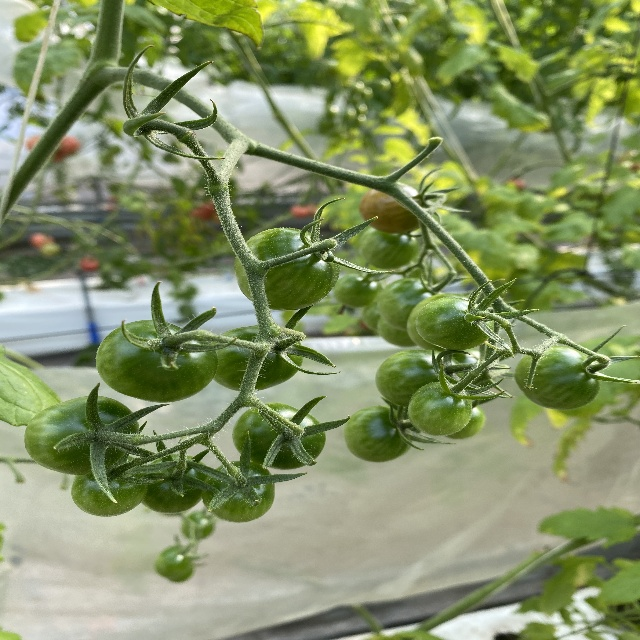l_green: (95, 318, 219, 403), (24, 395, 139, 476), (235, 228, 342, 310), (210, 325, 306, 394), (232, 401, 328, 470), (513, 344, 600, 410), (373, 350, 463, 407), (69, 454, 150, 517), (201, 460, 276, 524), (407, 292, 482, 354), (140, 454, 212, 515), (416, 297, 497, 351), (342, 405, 415, 462), (406, 381, 472, 437), (377, 278, 445, 331), (356, 224, 420, 269), (450, 350, 495, 396), (442, 401, 484, 439)
l_half_ripened: (357, 182, 430, 235)
